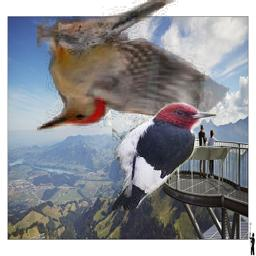Woodpecker: (38, 0, 231, 132), (113, 103, 218, 212)
